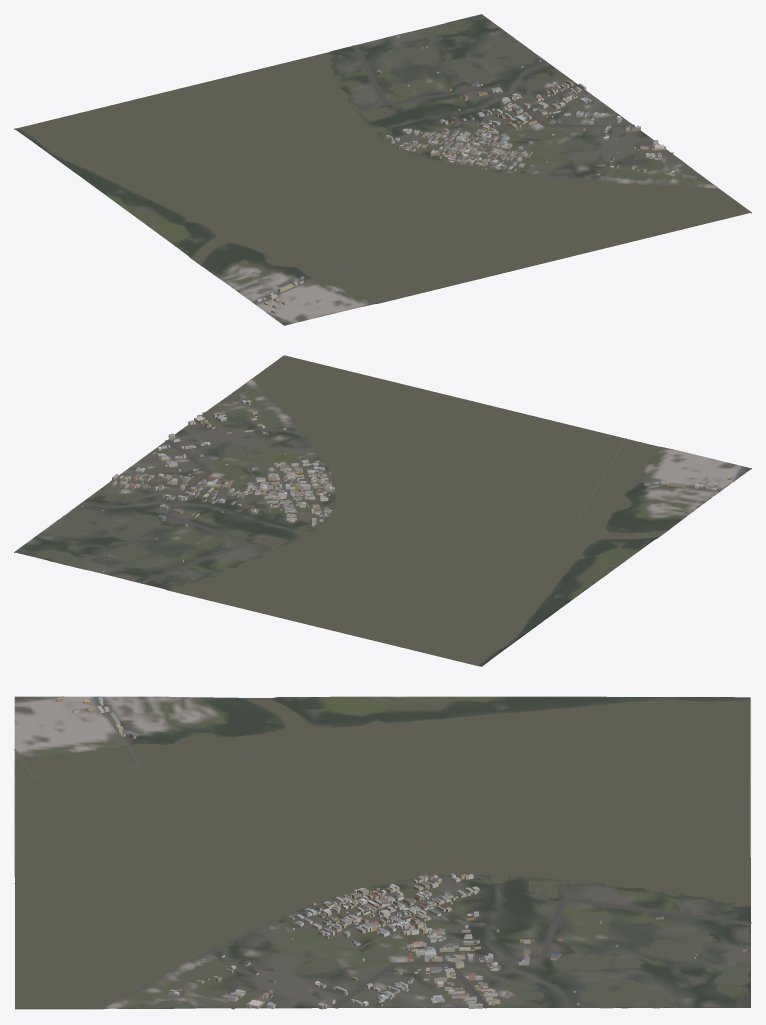
3 views of the same model, one above another, from view 1: azimuth 30°, elevation 25°; view 2: azimuth 150°, elevation 25°; view 3: azimuth 270°, elevation 25° (orthographic). The views are drawn at different scales.
Visible parts, largest first — view 1: water, ground, buildings, roads; view 2: water, ground, buildings, roads; view 3: water, ground, buildings, roads.
Boxes of the visible parts, x1=… form: water: x1=18, y1=24, x2=750, y2=303; ground: x1=14, y1=14, x2=751, y2=325; buildings: x1=256, y1=35, x2=674, y2=313; roads: x1=255, y1=45, x2=673, y2=323; water: x1=47, y1=355, x2=667, y2=665; ground: x1=14, y1=361, x2=751, y2=666; buildings: x1=81, y1=399, x2=731, y2=572; roads: x1=110, y1=412, x2=743, y2=583; water: x1=14, y1=698, x2=750, y2=1008; ground: x1=14, y1=696, x2=750, y2=1009; buildings: x1=56, y1=697, x2=746, y2=1009; roads: x1=14, y1=696, x2=751, y2=1009.
Bounding box in the file's own units: 1409 × 15.69 × 1404.
